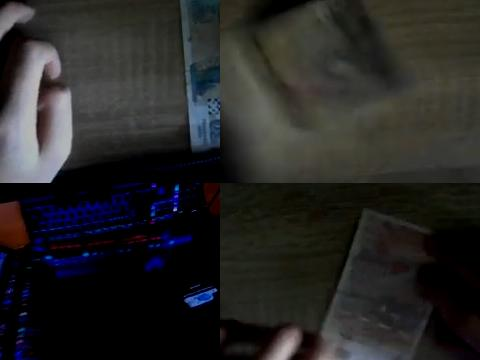10leva: (220, 0, 416, 132)
5leva: (320, 208, 480, 360)
